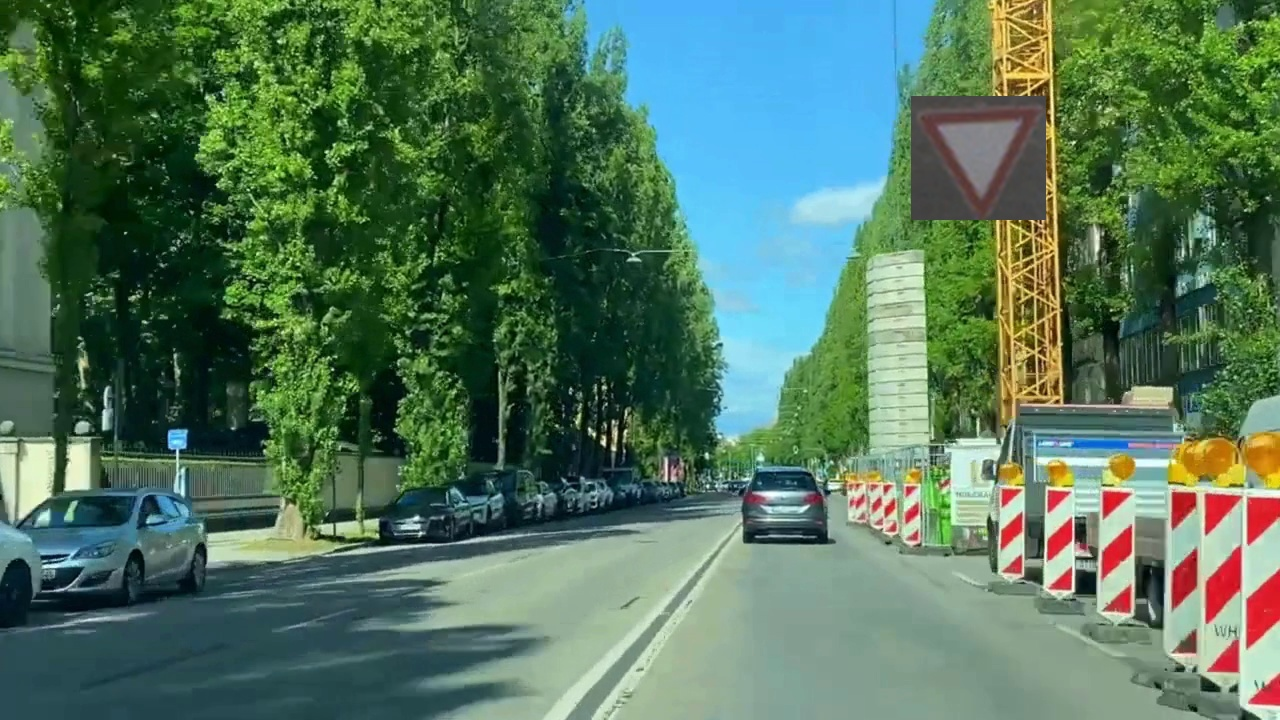Yield: (911, 96, 1046, 220)
